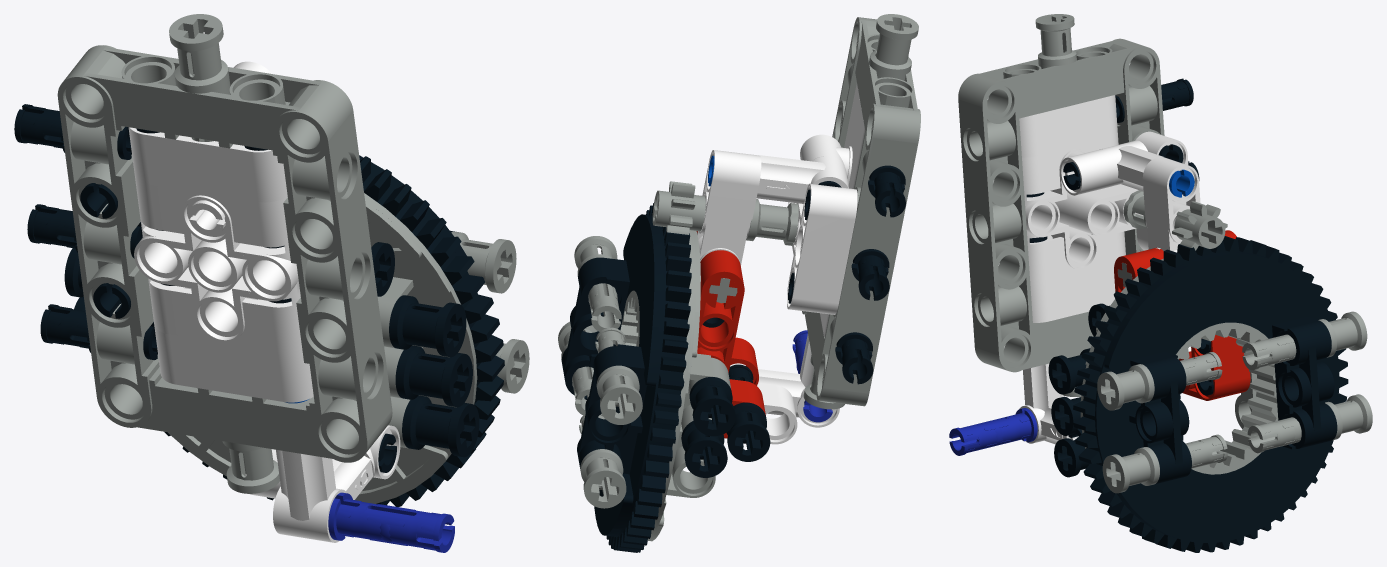
Rendered from sample3.glb.
The picture shows the model from 3 angles, left to right: view 1: azimuth 30°, elevation 25°; view 2: azimuth 150°, elevation 25°; view 3: azimuth 270°, elevation 25°; orthographic projection. The views are drawn at different scales.
Parts seen in each view (by area): view 1: sample3; view 2: sample3; view 3: sample3.
Boxes of the visible parts, bbox=[...] form: sample3: bbox=[14, 14, 529, 552]; sample3: bbox=[558, 14, 920, 552]; sample3: bbox=[949, 14, 1372, 552].
Bounding box in the file's own units: 184 × 230 × 197.
